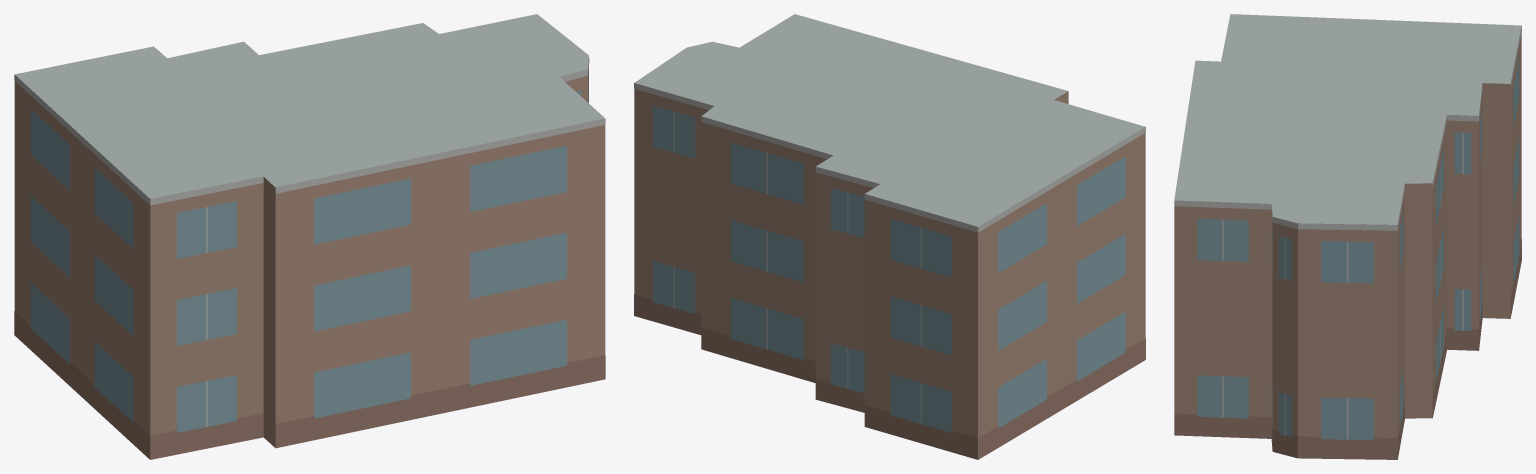
File: survey-upis-33022104.glb
The picture shows the model from 3 angles, left to right: view 1: azimuth 30°, elevation 25°; view 2: azimuth 150°, elevation 25°; view 3: azimuth 270°, elevation 25°; orthographic projection. The views are drawn at different scales.
Parts seen in each view (by area): view 1: survey-upis-33022104.tmp; view 2: survey-upis-33022104.tmp; view 3: survey-upis-33022104.tmp.
Boxes of the visible parts, <box> form: survey-upis-33022104.tmp: <box>14,14,605,459</box>; survey-upis-33022104.tmp: <box>634,14,1145,459</box>; survey-upis-33022104.tmp: <box>1174,14,1521,459</box>.
Size of the model in its own units: 19.17 by 9.95 by 13.35.
